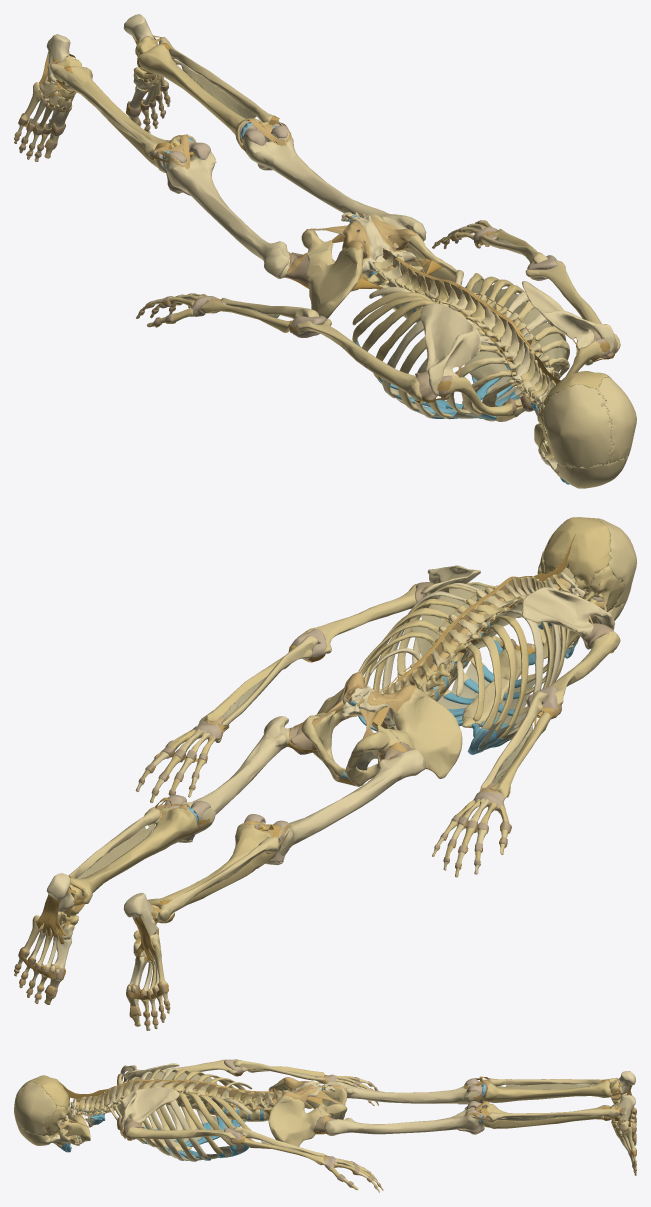
The model's file is skeletal.glb.
The picture shows the model from 3 angles, top to bottom: view 1: azimuth 30°, elevation 25°; view 2: azimuth 150°, elevation 25°; view 3: azimuth 270°, elevation 25°; orthographic projection. The views are drawn at different scales.
Visible parts, largest first — view 1: 右侧顶骨, 右侧股骨, 左侧股骨, 右侧肩胛骨, 右侧髋骨, 左侧胫骨, 左侧肩胛骨, 右侧肱骨, 左侧顶骨, 右侧胫骨, 左侧肱骨, 右侧腓骨 (+16 smaller); view 2: 右侧髋骨, 右侧股骨, 枕骨, 左侧胫骨, 右侧肩胛骨, 左侧股骨, 右侧胫骨, 左侧髋骨, 左侧肱骨, 右侧顶骨, 右侧腓骨, 右侧肱骨 (+19 smaller); view 3: 左侧髋骨, 左侧股骨, 右侧股骨, 左侧顶骨, 右侧胫骨, 左侧肩胛骨, 左侧胫骨, 左侧肱骨, 左侧腓骨, 棘间韧带, 右侧腓骨, 枕骨 (+31 smaller).
Part boxes in pixels (left/top/right/bottom): 右侧顶骨: left=543, top=384, right=612, bottom=468; 右侧股骨: left=164, top=149, right=289, bottom=278; 左侧股骨: left=243, top=127, right=426, bottom=241; 右侧肩胛骨: left=420, top=303, right=480, bottom=400; 右侧髋骨: left=301, top=229, right=363, bottom=318; 左侧胫骨: left=138, top=44, right=268, bottom=145; 左侧肩胛骨: left=522, top=281, right=615, bottom=365; 右侧肱骨: left=296, top=318, right=423, bottom=401; 左侧顶骨: left=596, top=376, right=636, bottom=463; 右侧胫骨: left=63, top=66, right=195, bottom=172; 左侧肱骨: left=525, top=260, right=620, bottom=353; 右侧腓骨: left=50, top=63, right=157, bottom=159; 右侧髋骨: left=345, top=688, right=462, bottom=786; 右侧股骨: left=259, top=748, right=425, bottom=855; 枕骨: left=543, top=517, right=611, bottom=594; 左侧胫骨: left=70, top=807, right=197, bottom=903; 右侧肩胛骨: left=521, top=587, right=614, bottom=649; 左侧股骨: left=182, top=716, right=289, bottom=834; 右侧胫骨: left=147, top=823, right=279, bottom=923; 左侧髋骨: left=301, top=674, right=353, bottom=781; 左侧肱骨: left=298, top=584, right=416, bottom=654; 右侧顶骨: left=598, top=518, right=636, bottom=607; 右侧腓骨: left=158, top=837, right=278, bottom=921; 右侧肱骨: left=525, top=631, right=620, bottom=704; 左侧髋骨: left=268, top=1095, right=347, bottom=1146; 左侧股骨: left=324, top=1107, right=478, bottom=1135; 右侧股骨: left=326, top=1081, right=480, bottom=1103; 左侧顶骨: left=14, top=1082, right=56, bottom=1135; 右侧胫骨: left=482, top=1080, right=612, bottom=1102; 左侧肩胛骨: left=119, top=1087, right=179, bottom=1131; 左侧胫骨: left=482, top=1102, right=610, bottom=1128; 左侧肱骨: left=125, top=1127, right=235, bottom=1140; 左侧腓骨: left=487, top=1108, right=619, bottom=1122; 棘间韧带: left=76, top=1080, right=285, bottom=1102; 右侧腓骨: left=487, top=1077, right=618, bottom=1086; 枕骨: left=33, top=1075, right=70, bottom=1114.
Bounding box in the file's own units: 0.9863 × 0.3683 × 2.5.
